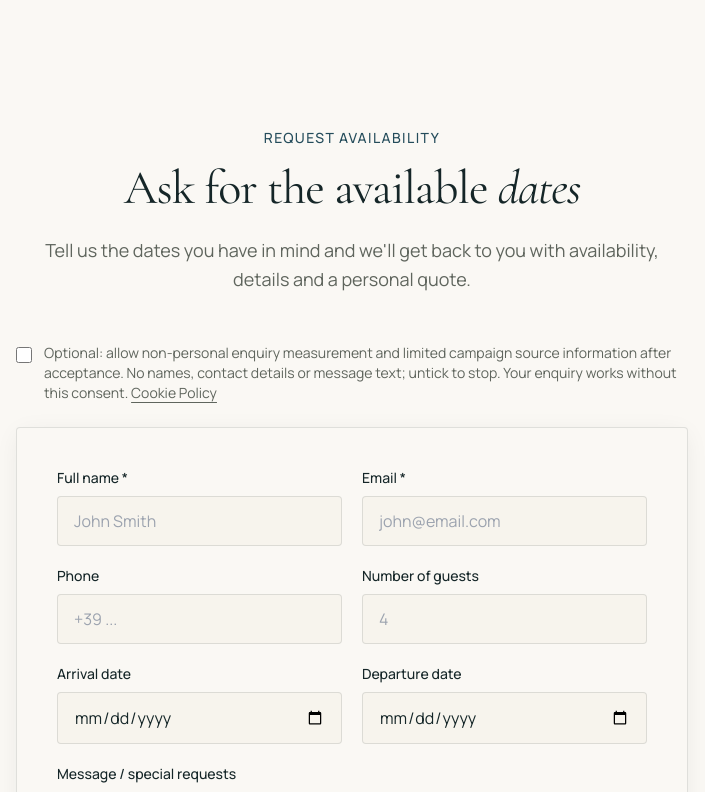
Test: Actual enquiry handlers (delivery mocked; no live leads or emails) › saves an enquiry without optional measurement consent and emits nothing
In the field with placeholder "John Smith": [200, 520] box [57,496,342,546], type "Synthetic local test"
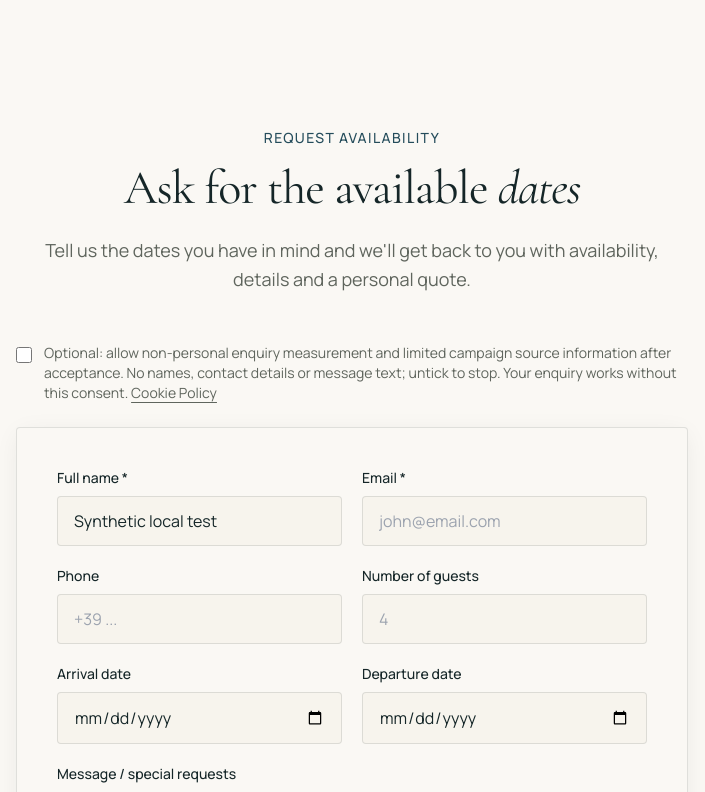
In the field with placeholder "john@email.com": [504, 520] box [362,496,647,546], type "synthetic@example.invalid"
(page scrolled)
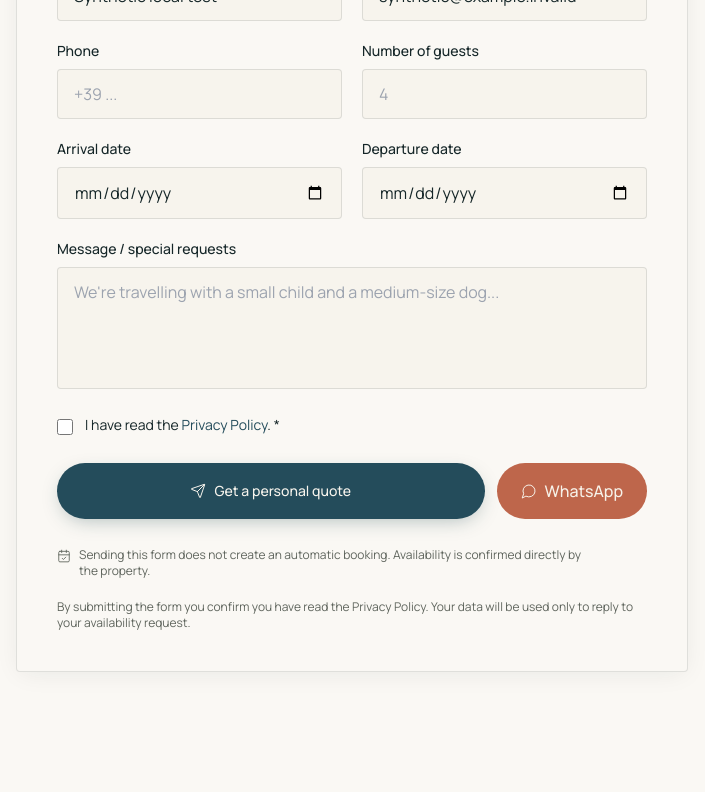
Click the checkbox labelled "I have read the Privacy Policy . *": [65, 426] box [57,418,73,434]
(page scrolled)
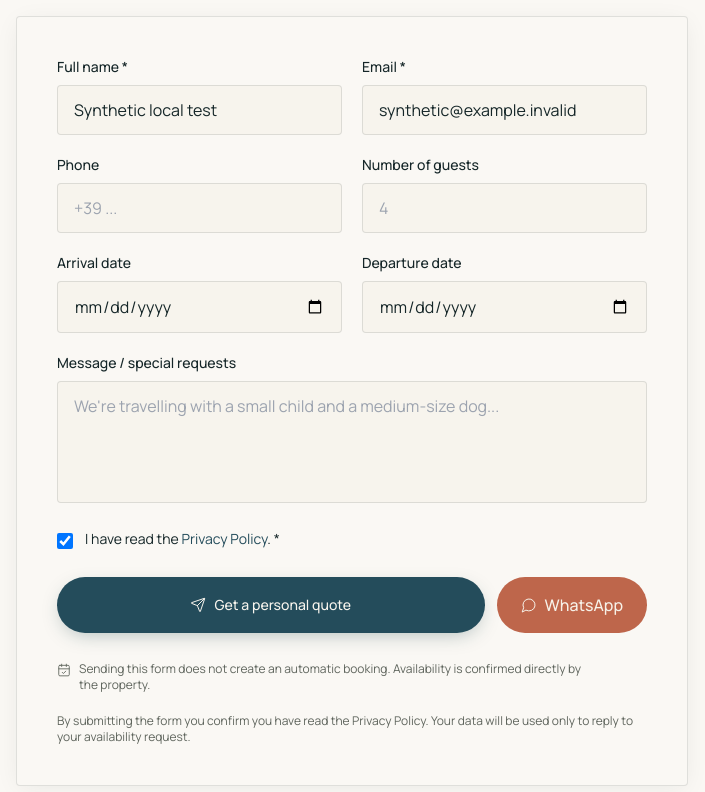
Submit the form
(page scrolled)
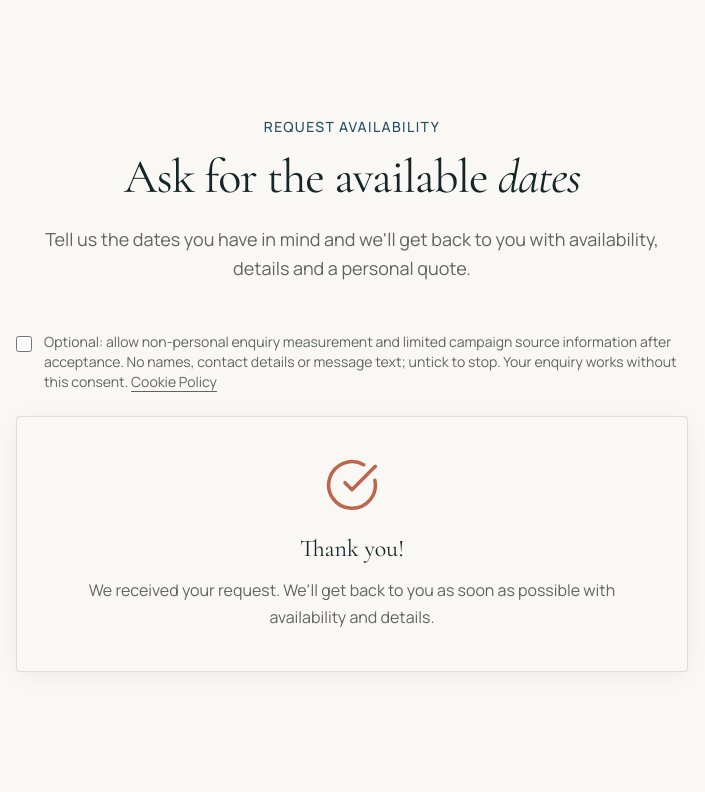
Expected: the form is gone
